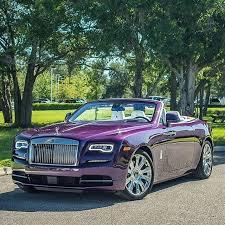Normal Automobiles: (12, 99, 212, 198)
